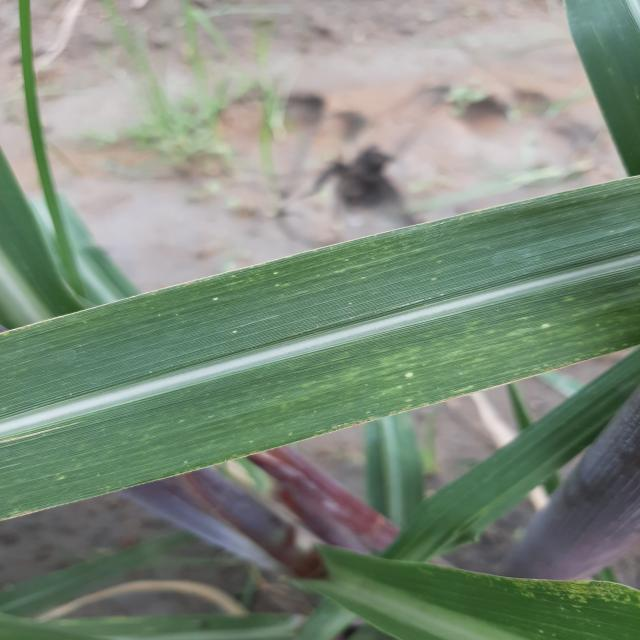Sugarcane: (0, 173, 639, 523)
